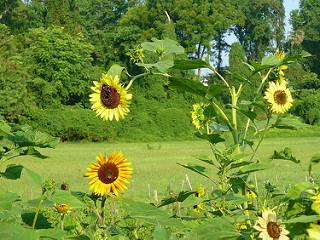sunflower: (87, 151, 131, 197), (91, 75, 130, 120), (255, 208, 289, 240), (264, 82, 293, 114)
